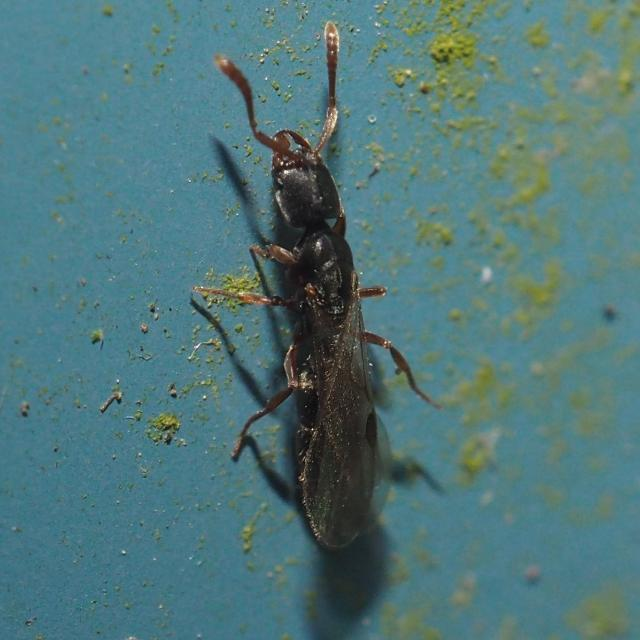Ponera: (181, 13, 465, 553)
